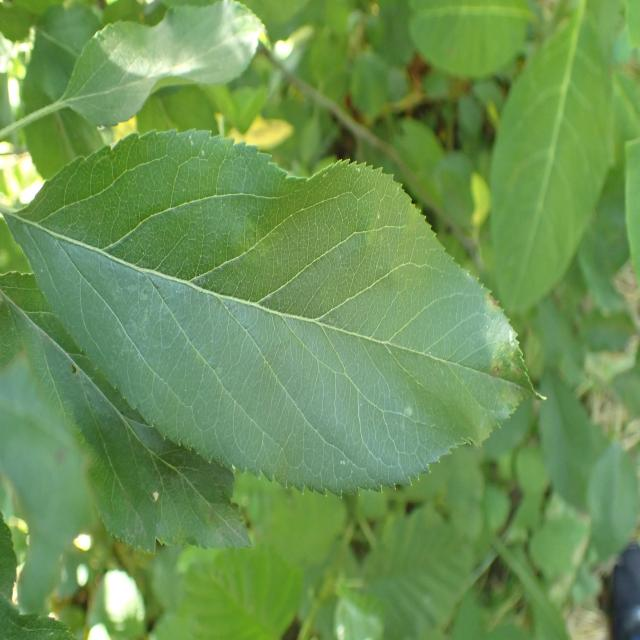scab: (63, 144, 520, 451)
